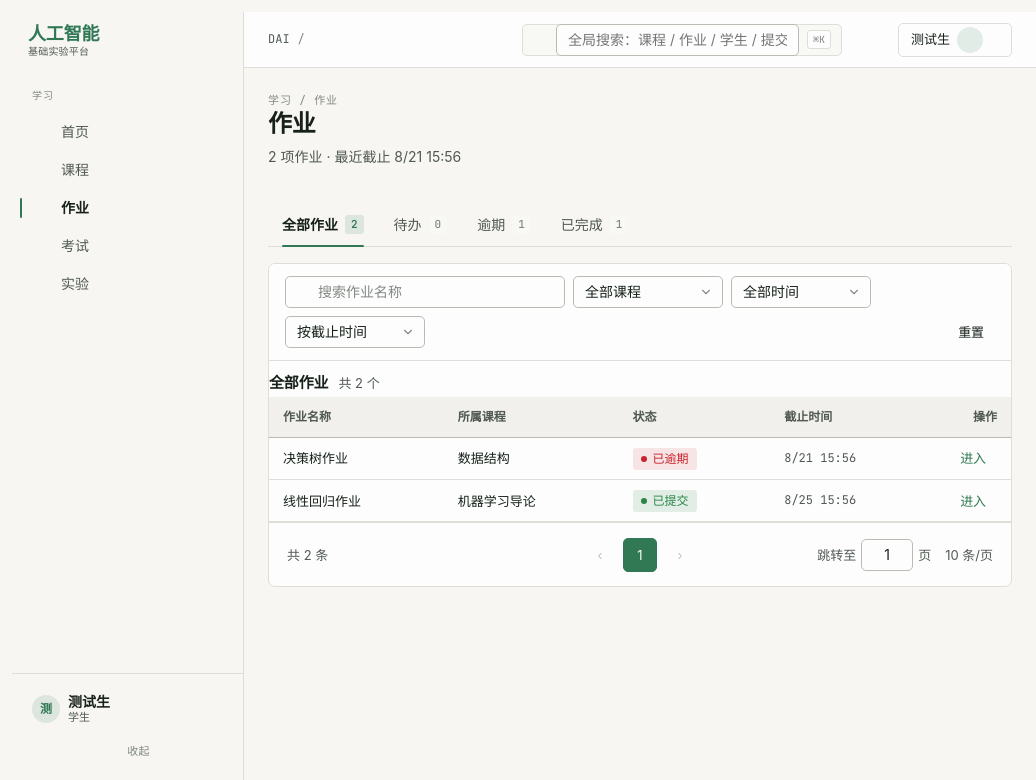
Test: 作业列表 AssignmentListView › 按作业名称搜索仅显示匹配的作业
The width and height of the screenshot is (1036, 780).
In the search field with class "assignment-search-input": (425, 292) [285,276,565,308], type "决策树"
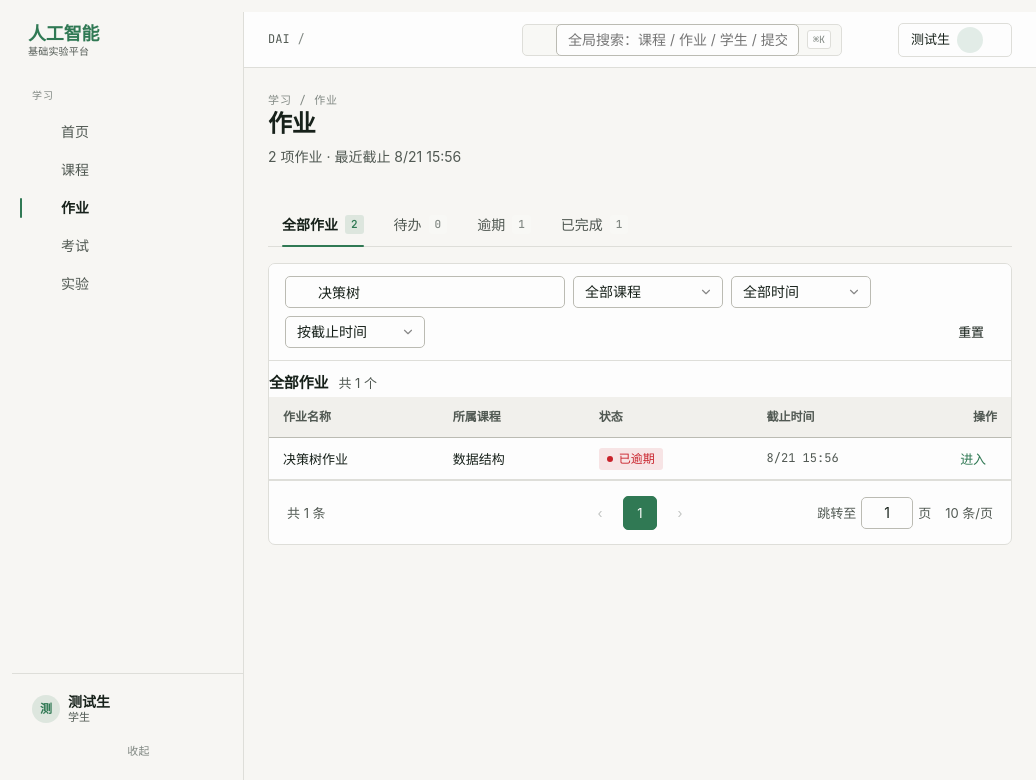
Expected: the text "决策树作业" is shown, [283,451,348,467]
Now the text "线性回归作业" is gone
